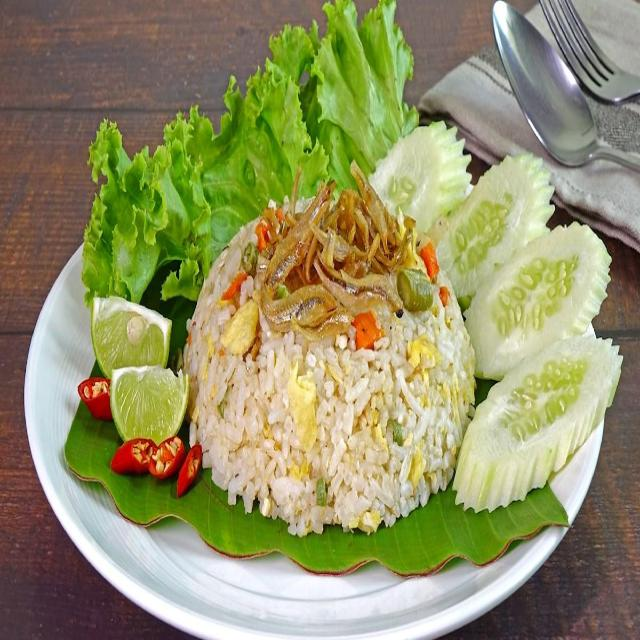Nasi Goreng: (188, 196, 481, 510)
